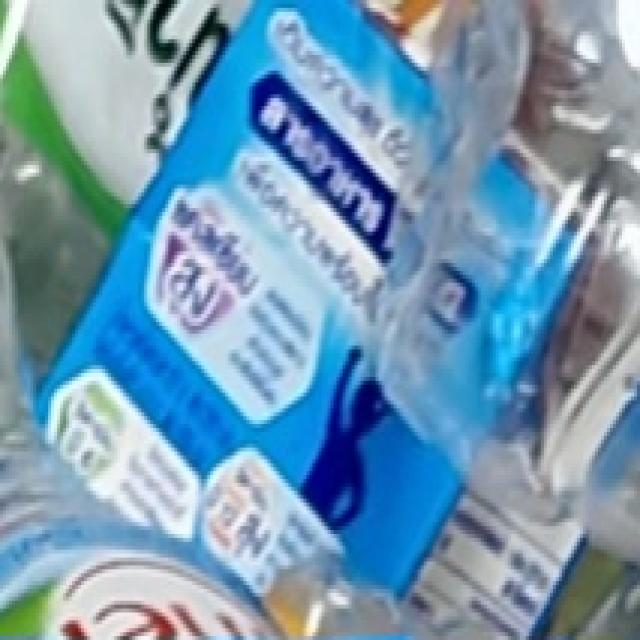drink carton: (31, 0, 640, 599)
